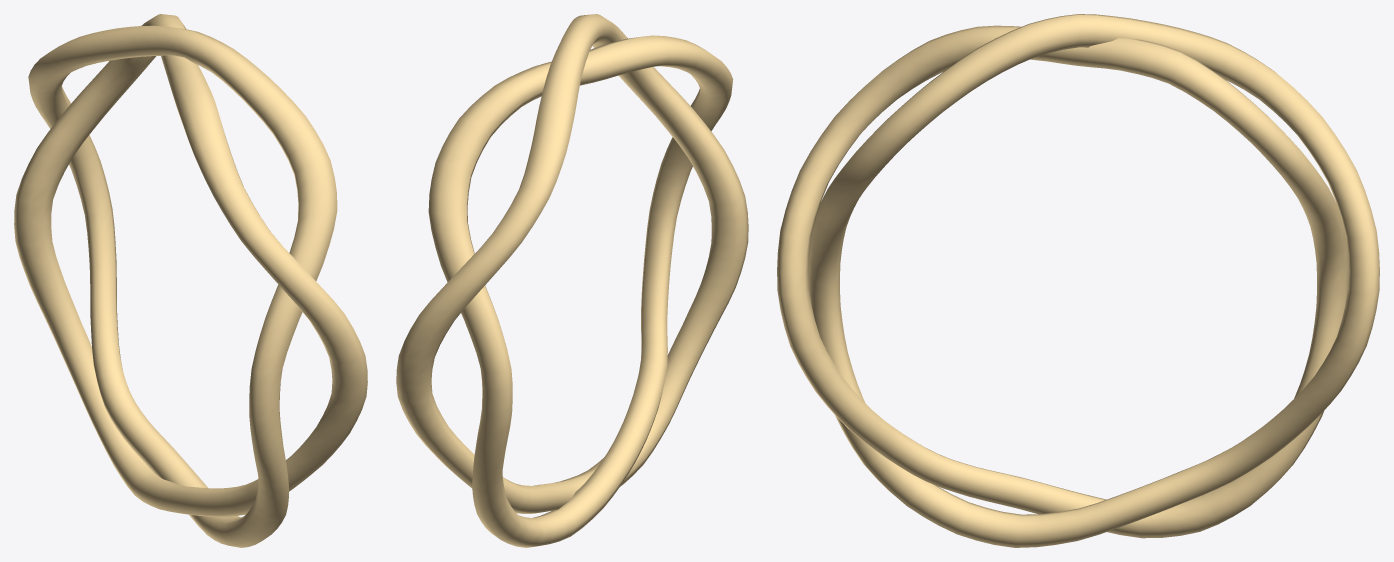
Rendered from SM_Wristband.fbx.
3 views of the same model, side by side, from view 1: azimuth 30°, elevation 25°; view 2: azimuth 150°, elevation 25°; view 3: azimuth 270°, elevation 25° (orthographic). The views are drawn at different scales.
Visible parts, largest first — view 1: SM_WristbandPlayer; view 2: SM_WristbandPlayer; view 3: SM_WristbandPlayer.
Part boxes in pixels (x1=…): SM_WristbandPlayer: x1=14, y1=14, x2=367, y2=547; SM_WristbandPlayer: x1=396, y1=14, x2=748, y2=547; SM_WristbandPlayer: x1=777, y1=14, x2=1379, y2=547.
Size of the model in its own units: 1.84 by 7.08 by 7.3.
